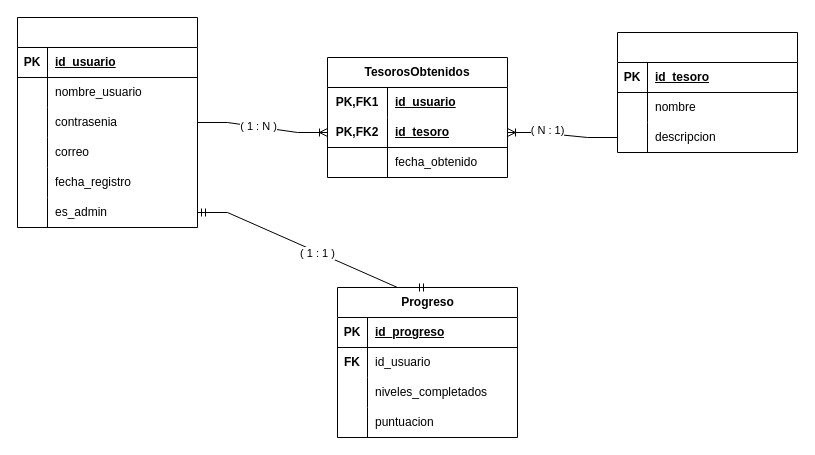
This 815x455 diagram has some shape labels left out. Here are the shapes that lost their labels. From the top down, the box of each, then its label:
(616, 32, 798, 152): Tesoros
(16, 16, 198, 228): Usuarios
